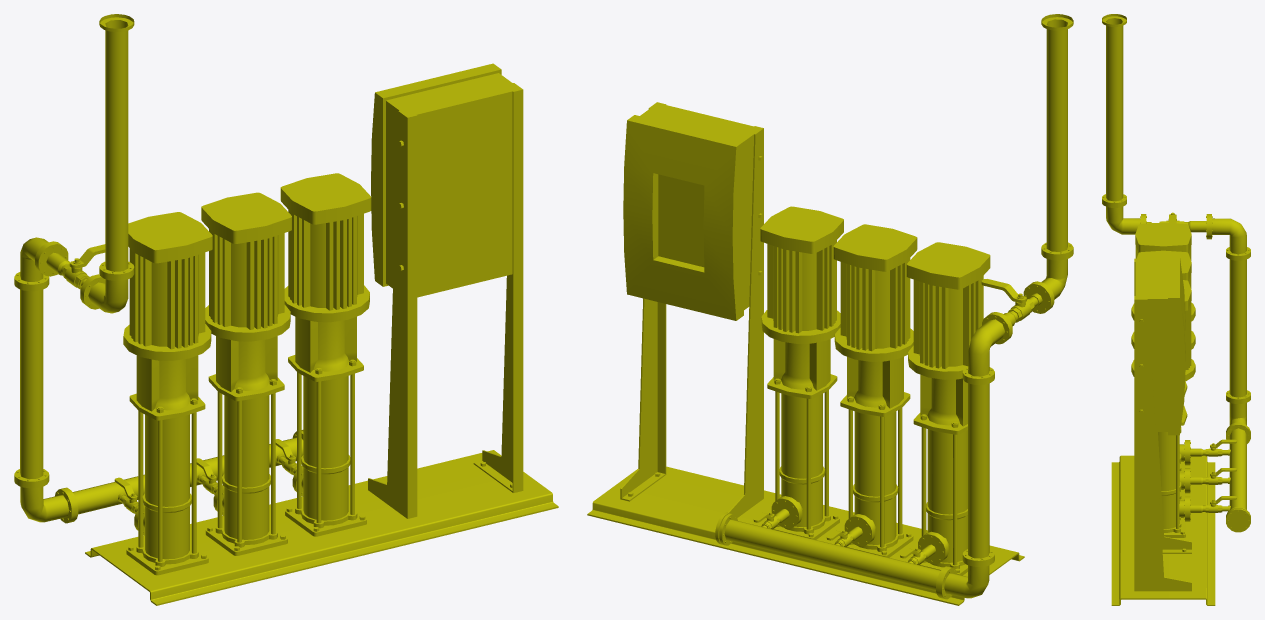
Rendered from Water Pump.fbx.
The picture shows the model from 3 angles, left to right: view 1: azimuth 30°, elevation 25°; view 2: azimuth 150°, elevation 25°; view 3: azimuth 270°, elevation 25°; orthographic projection. The views are drawn at different scales.
Visible parts, largest first — view 1: engineSet3; view 2: engineSet3; view 3: engineSet3.
Part boxes in pixels (left/top/right/bottom): engineSet3: left=14, top=14, right=558, bottom=605; engineSet3: left=587, top=14, right=1073, bottom=605; engineSet3: left=1102, top=14, right=1250, bottom=605.
Size of the model in its own units: 229 by 286 by 89.33.
